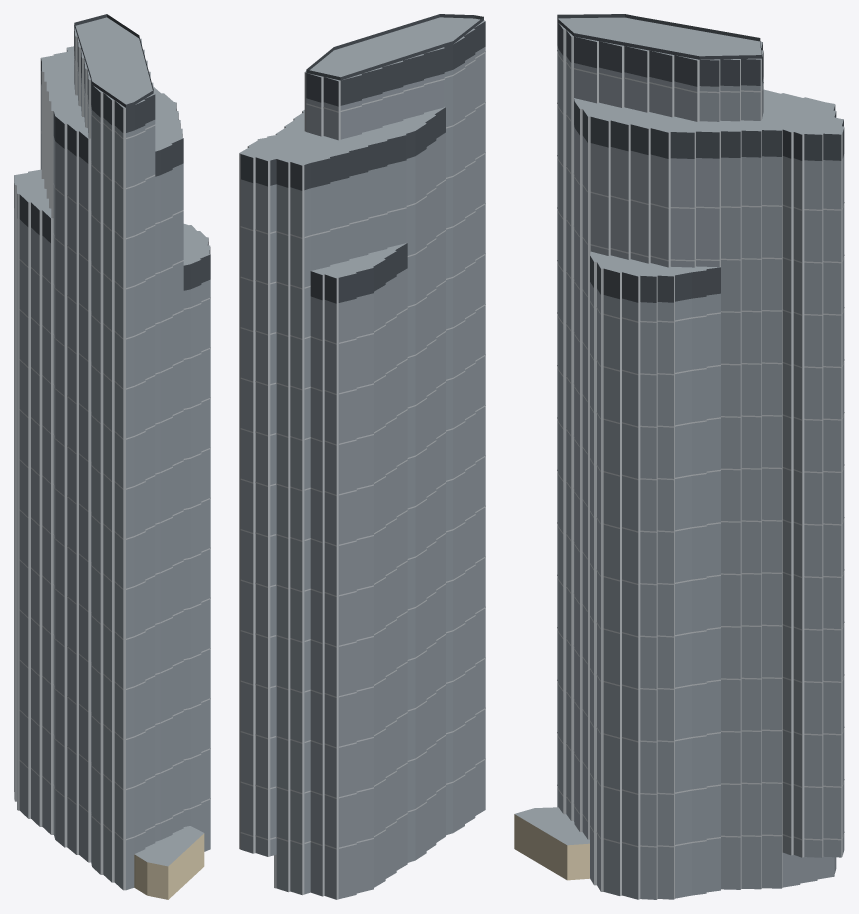
Rendered from london-22-bishopsgate.glb.
3 views of the same model, side by side, from view 1: azimuth 30°, elevation 25°; view 2: azimuth 150°, elevation 25°; view 3: azimuth 270°, elevation 25° (orthographic). The views are drawn at different scales.
Visible parts, largest first — view 1: 22 Bishopsgate; view 2: 22 Bishopsgate; view 3: 22 Bishopsgate.
Boxes of the visible parts, x1,y1,x2,y2 form: 22 Bishopsgate: (14,14,210,899); 22 Bishopsgate: (239,14,485,899); 22 Bishopsgate: (514,14,844,899).
Size of the model in its own units: 46.89 by 281 by 102.
